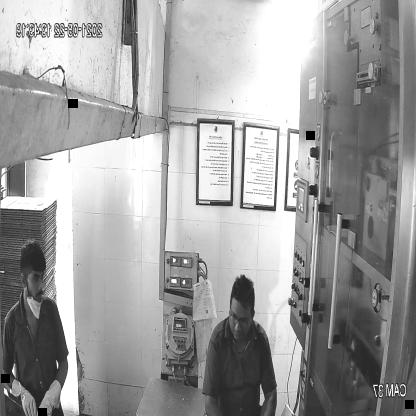goggles: (226, 307, 256, 331)
no_goggles: (22, 269, 46, 287)
